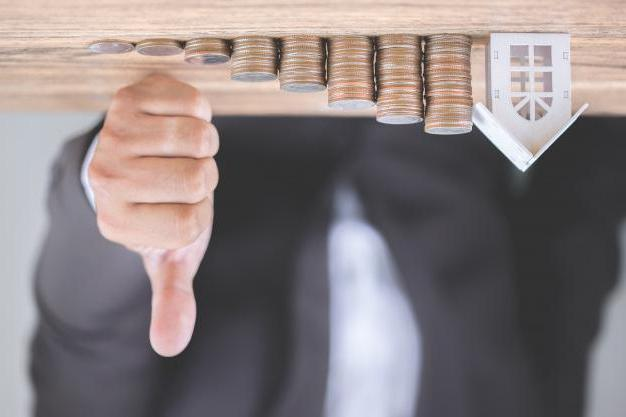thumbsdown: (88, 76, 220, 357)
